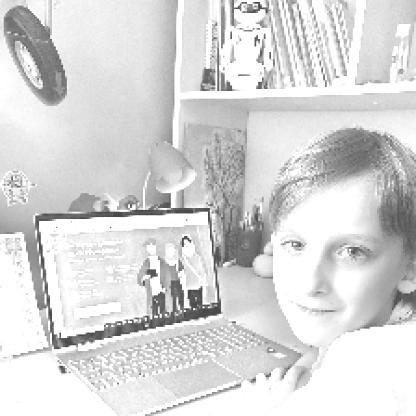child: (243, 127, 416, 415)
